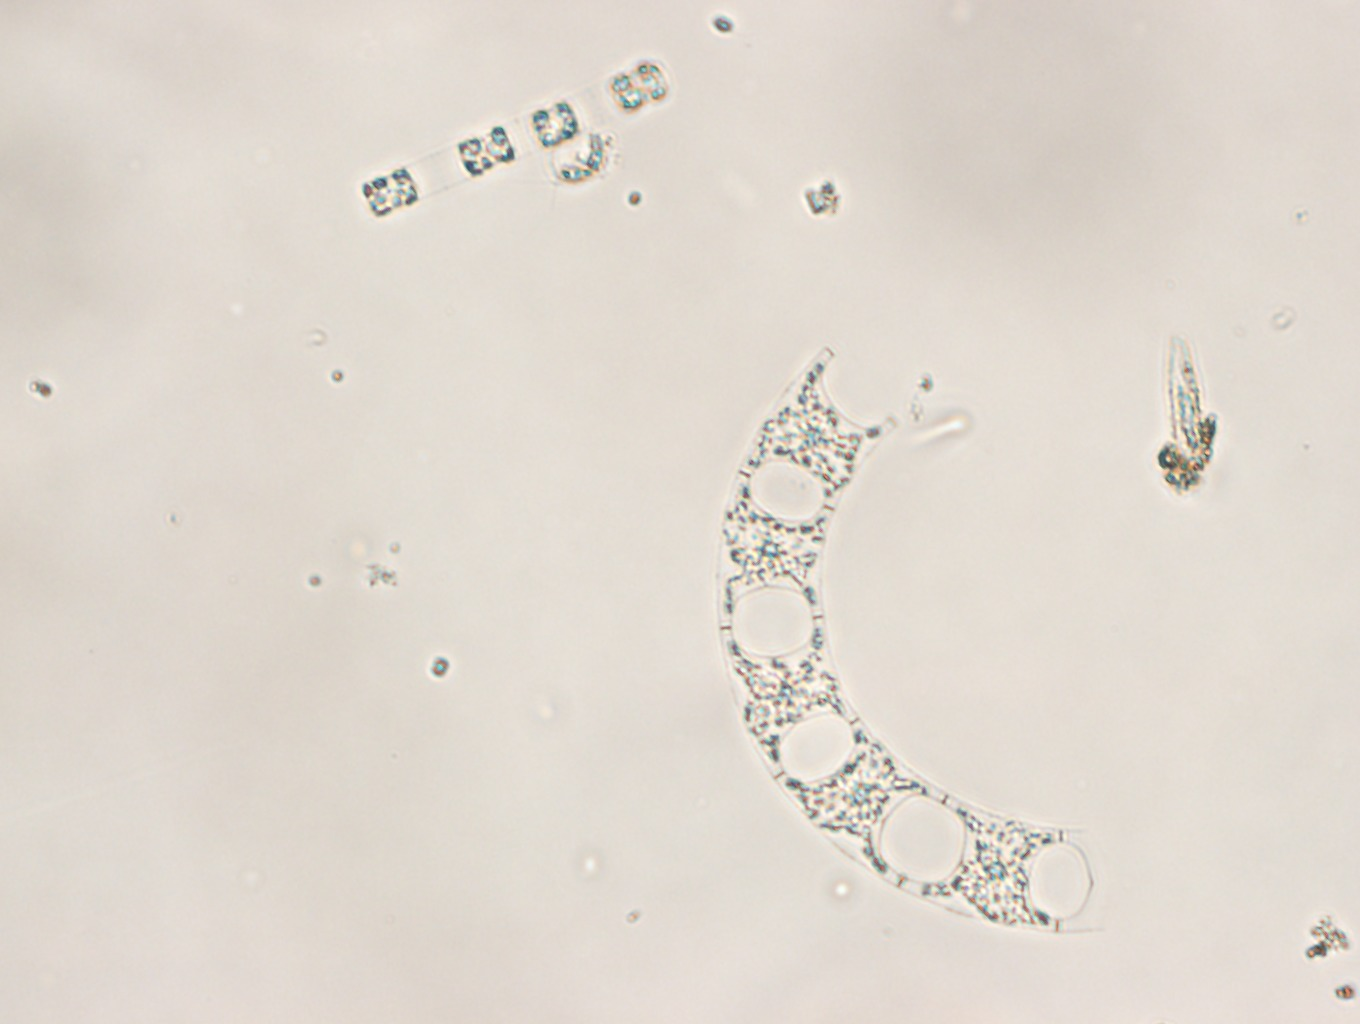eucampia: (717, 349, 1111, 938)
skeletonema: (360, 56, 673, 221)
